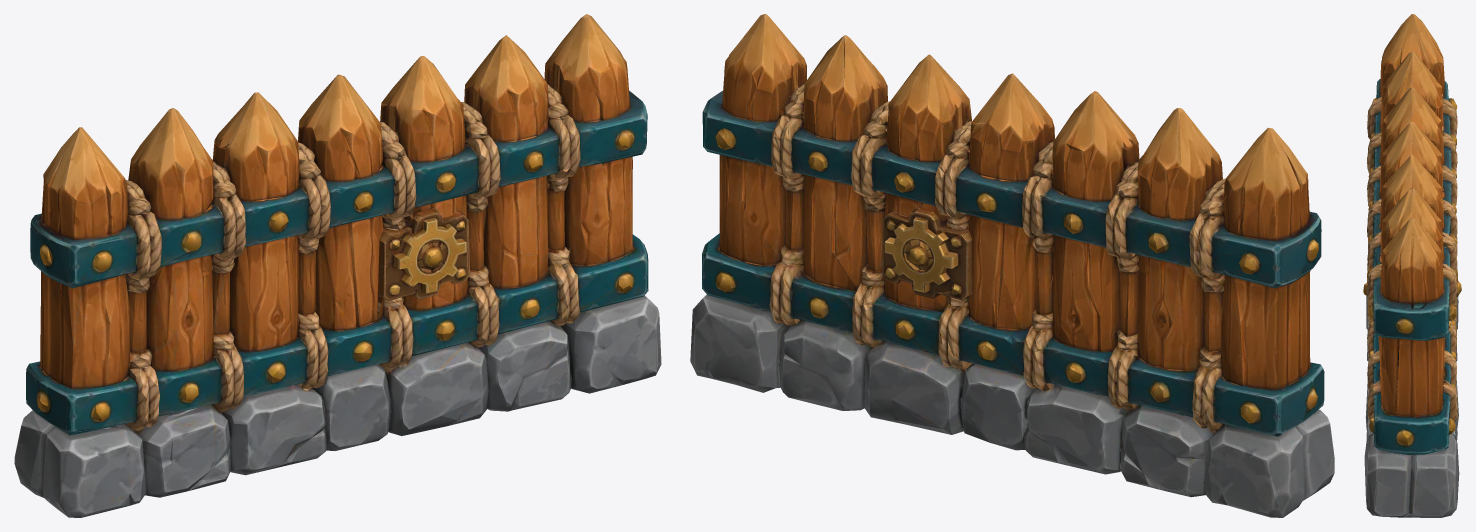
Rendered from shelter_palisade.glb.
The picture shows the model from 3 angles, left to right: view 1: azimuth 30°, elevation 25°; view 2: azimuth 150°, elevation 25°; view 3: azimuth 270°, elevation 25°; orthographic projection. The views are drawn at different scales.
Visible parts, largest first — view 1: output_unwrapped; view 2: output_unwrapped; view 3: output_unwrapped.
Part boxes in pixels (box(x1,y1,x2,y2)): output_unwrapped: box(14, 14, 661, 517); output_unwrapped: box(690, 14, 1334, 517); output_unwrapped: box(1363, 14, 1461, 517).
Bounding box in the file's own units: 1.9 × 1.09 × 0.3378.
Materials: 1 (1 with a texture image).
